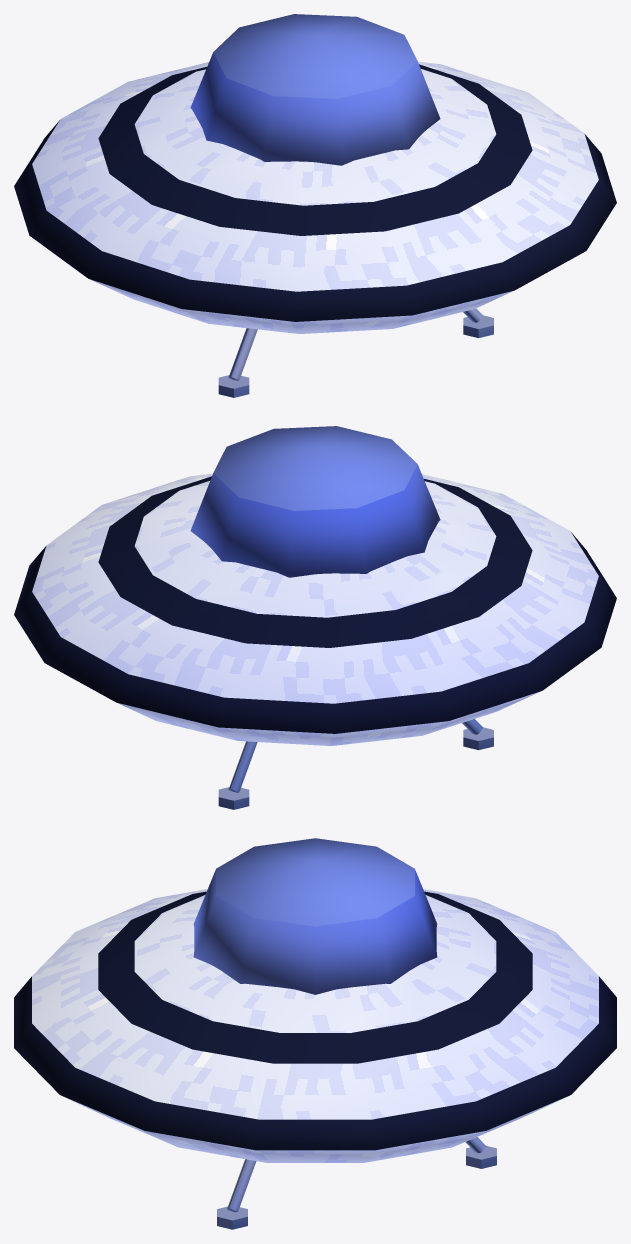
File: vehicle.craft.glb
The picture shows the model from 3 angles, top to bottom: view 1: azimuth 30°, elevation 25°; view 2: azimuth 150°, elevation 25°; view 3: azimuth 270°, elevation 25°; orthographic projection.
Parts seen in each view (by area): view 1: kit_craft_body, kit_craft_detail; view 2: kit_craft_body, kit_craft_detail; view 3: kit_craft_body, kit_craft_detail.
Part boxes in pixels (<box>): kit_craft_body: <box>14,61,616,333</box>; kit_craft_detail: <box>190,14,493,397</box>; kit_craft_body: <box>14,473,616,745</box>; kit_craft_detail: <box>190,426,493,809</box>; kit_craft_body: <box>14,889,616,1162</box>; kit_craft_detail: <box>193,838,496,1229</box>.
Size of the model in its own units: 2.35 by 1.29 by 2.35.
Materials: 5 (2 with a texture image).
